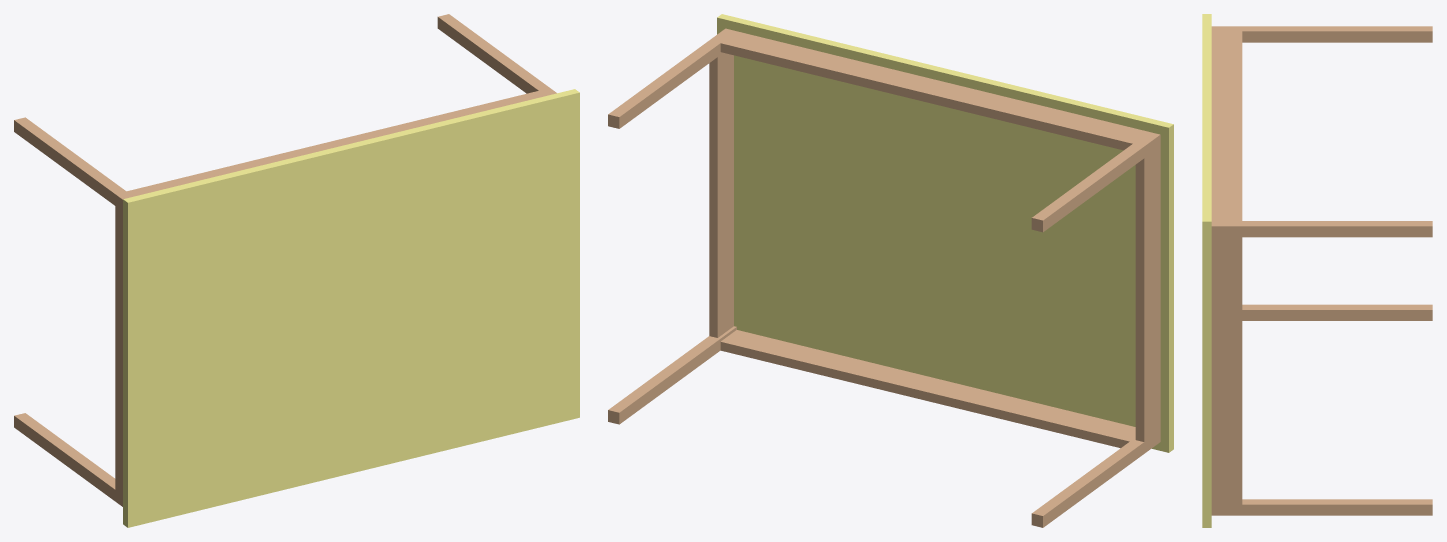
The model's file is diningtable.dae.
3 renders of one model, left to right at view 1: azimuth 30°, elevation 25°; view 2: azimuth 150°, elevation 25°; view 3: azimuth 270°, elevation 25°, orthographic. The views are drawn at different scales.
Visible parts, largest first — view 1: node (×2); view 2: node (×2); view 3: node (×2).
Part boxes in pixels (x1=…): node (×2): x1=14, y1=14, x2=579, y2=527; node (×2): x1=608, y1=14, x2=1173, y2=527; node (×2): x1=1202, y1=14, x2=1432, y2=527.
Bounding box in the file's own units: 1.6 × 1.1 × 0.75.
